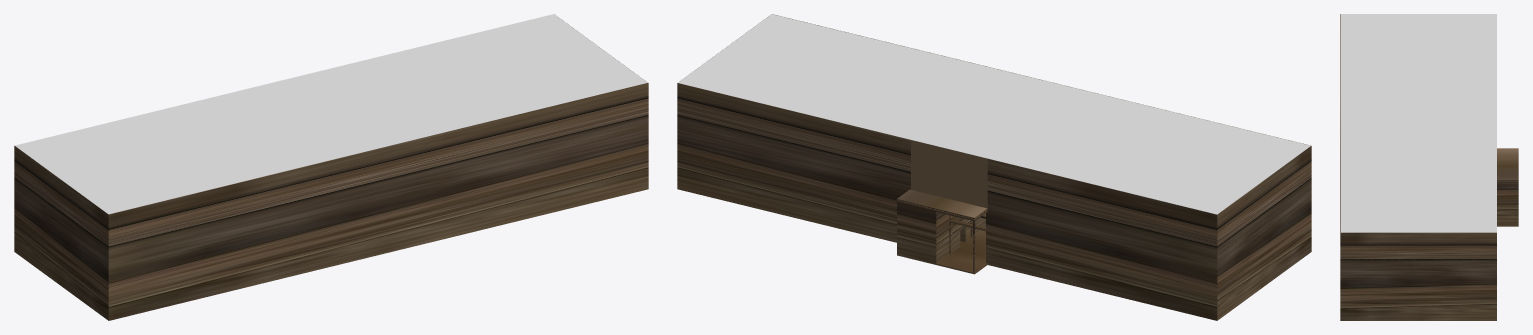
3 views of the same model, side by side, from view 1: azimuth 30°, elevation 25°; view 2: azimuth 150°, elevation 25°; view 3: azimuth 270°, elevation 25° (orthographic). The views are drawn at different scales.
Parts seen in each view (by area): view 1: First Floor, Roof; view 2: First Floor, Roof, Second Floor; view 3: Roof, First Floor, Second Floor.
Boxes of the visible parts, <box> form: First Floor: <box>14,17,648,320</box>; Roof: <box>15,14,647,214</box>; First Floor: <box>677,14,1311,320</box>; Roof: <box>678,14,1310,214</box>; Second Floor: <box>896,189,987,219</box>; Roof: <box>1341,14,1496,232</box>; First Floor: <box>1340,14,1518,320</box>; Second Floor: <box>1497,148,1518,181</box>.
Bounding box in the file's own units: 9498 × 1788 × 3273.
Materials: 2 (2 with a texture image).
